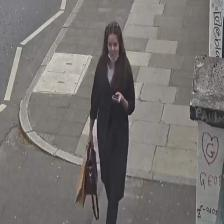person: (88, 20, 135, 224)
